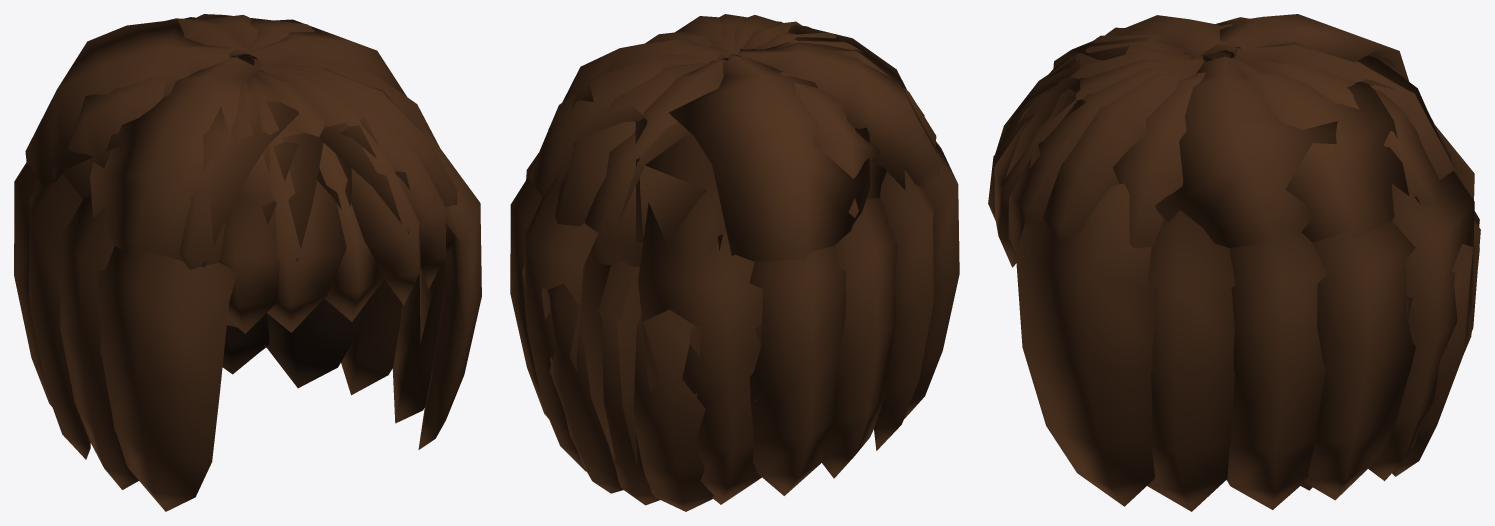
File: hair_f_chanel_f.glb
3 views of the same model, side by side, from view 1: azimuth 30°, elevation 25°; view 2: azimuth 150°, elevation 25°; view 3: azimuth 270°, elevation 25° (orthographic). The views are drawn at different scales.
Visible parts, largest first — view 1: HairTop, HairUnder; view 2: HairTop; view 3: HairTop.
Boxes of the visible parts, box(x1,y1,x2,y2) form: HairTop: box(14, 14, 481, 511); HairUnder: box(222, 298, 361, 388); HairTop: box(510, 14, 959, 511); HairTop: box(988, 14, 1480, 511).
Bounding box in the file's own units: 0.2548 × 0.2682 × 0.289.
